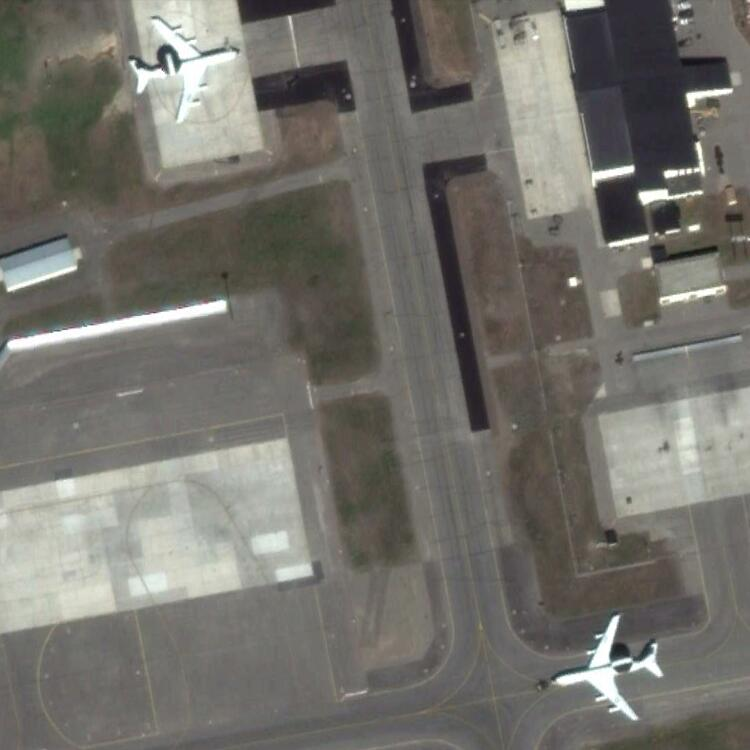A7: (127, 16, 242, 127), (547, 613, 664, 721)
